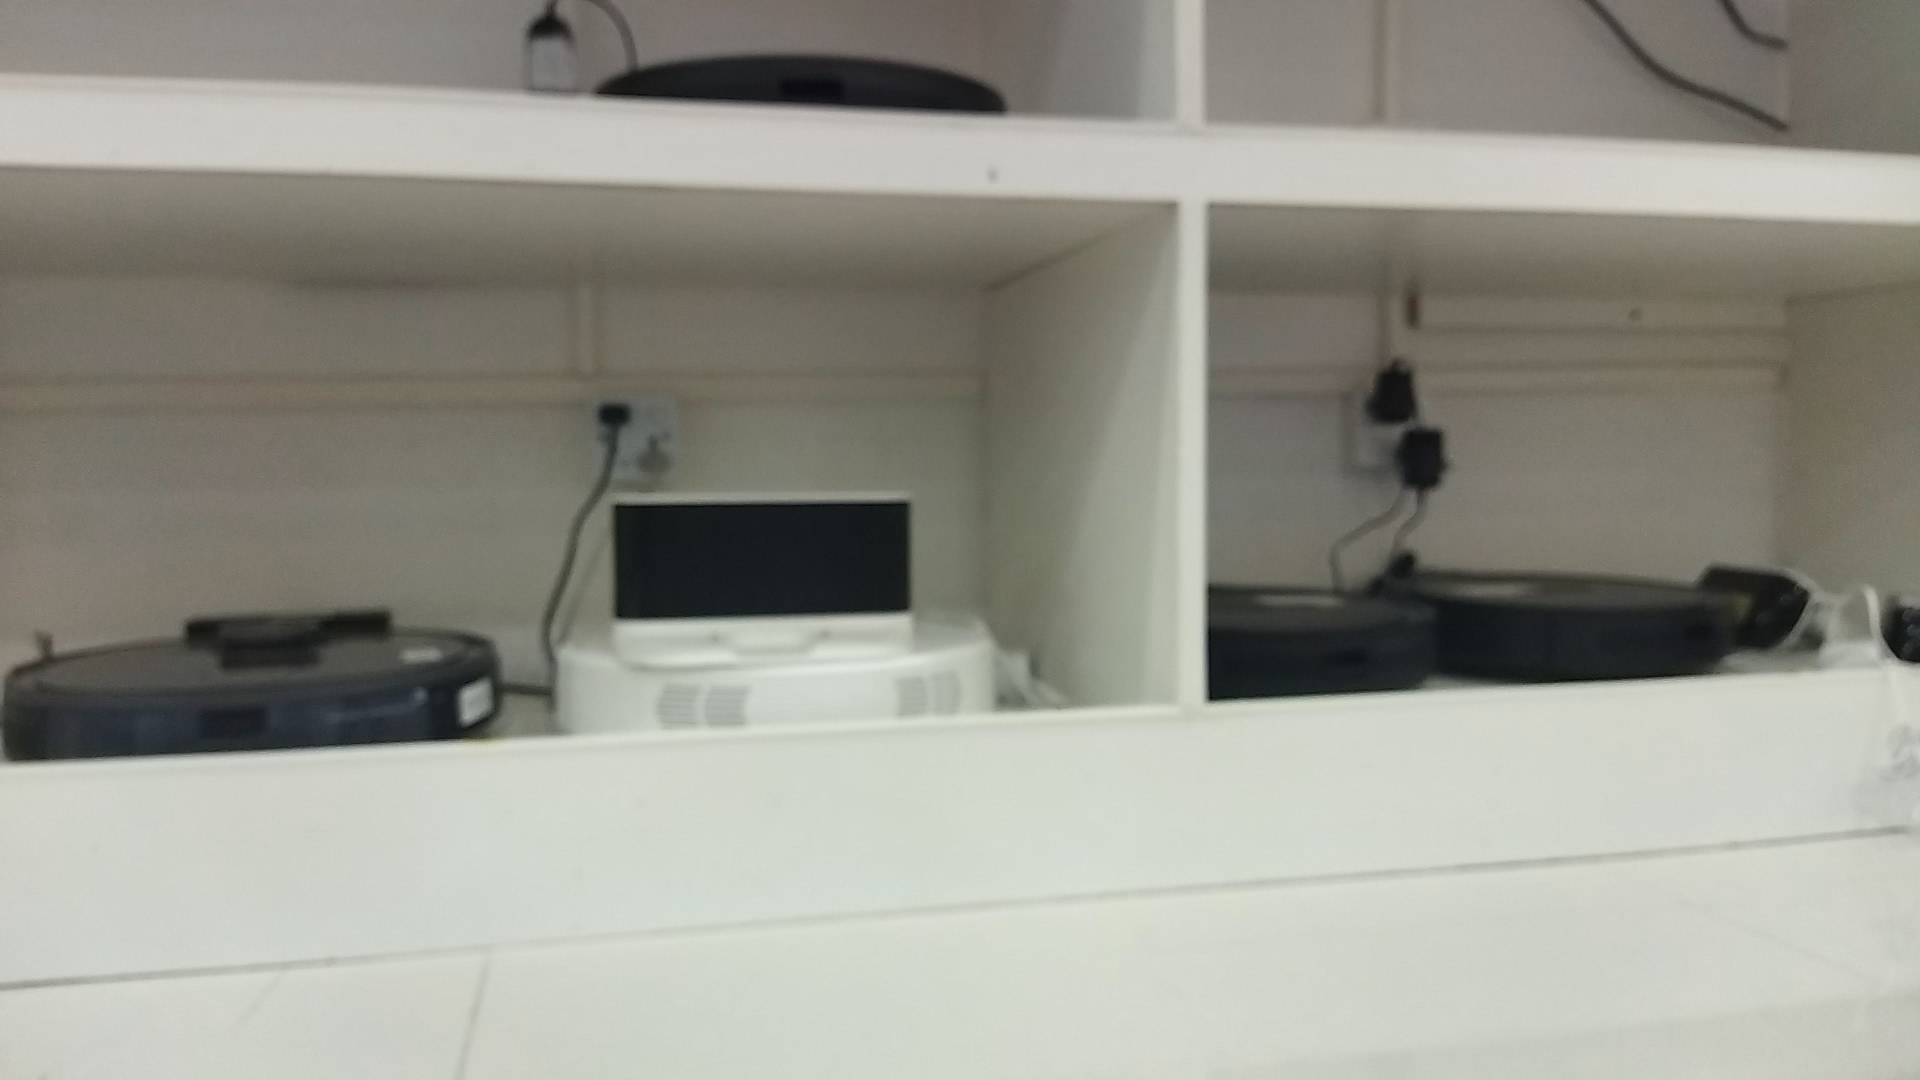recharge seat: (611, 487, 918, 673)
